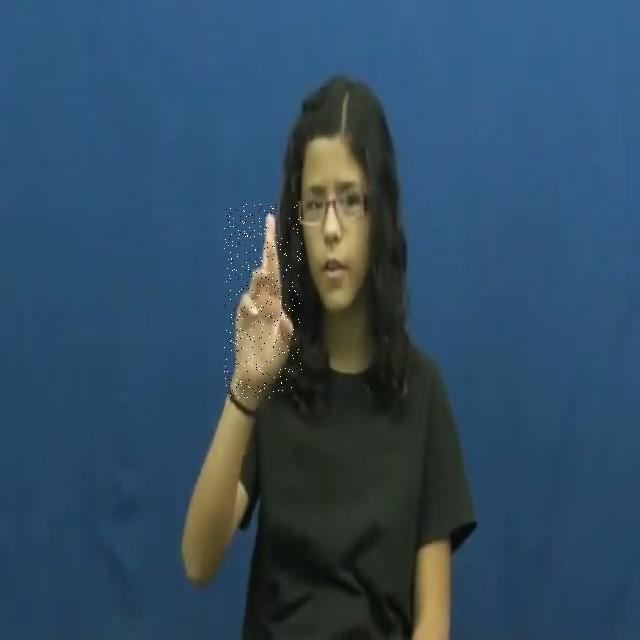yoghurt: (225, 204, 302, 398)
